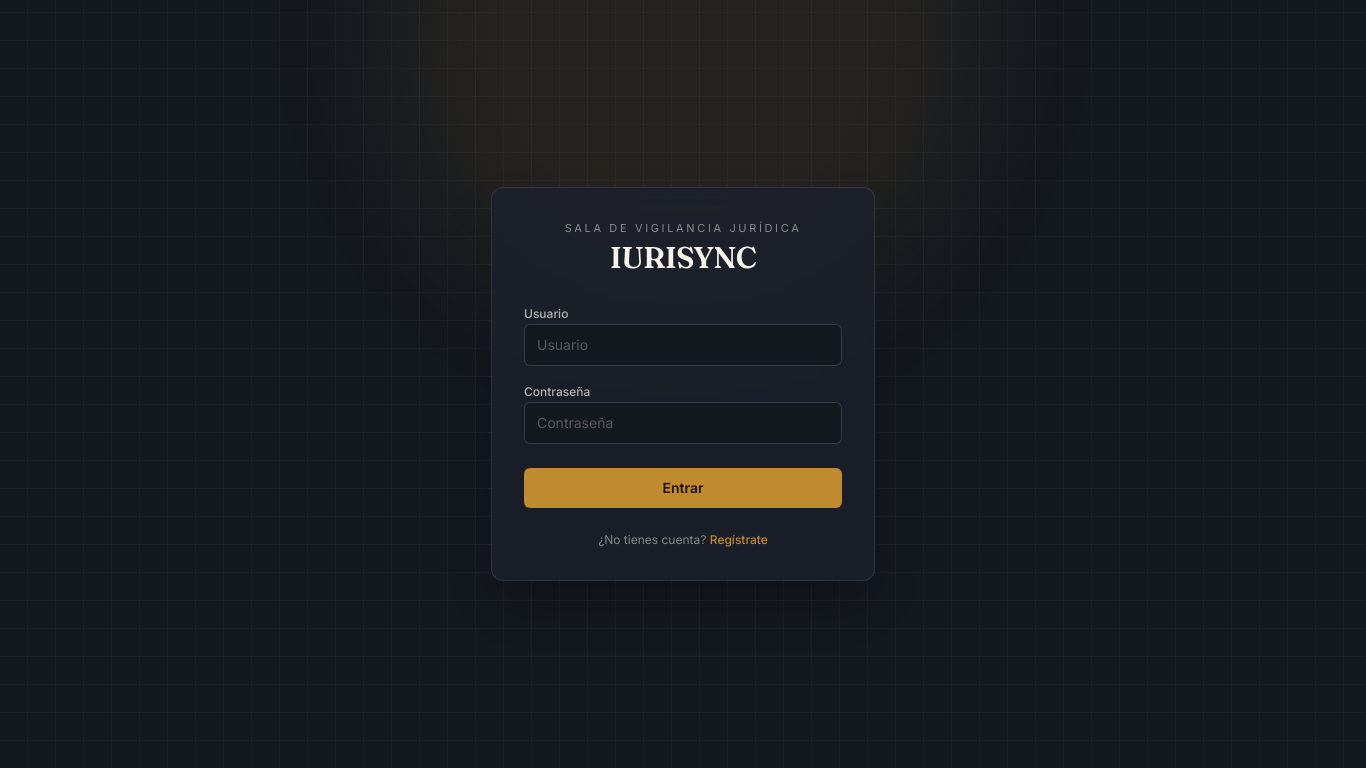
Test case: LoginPage › shows an error and does not store a session on invalid credentials
The width and height of the screenshot is (1366, 768).
Type "ana" into the field with placeholder "Usuario". click: (683, 345)
box: [524, 324, 842, 366]
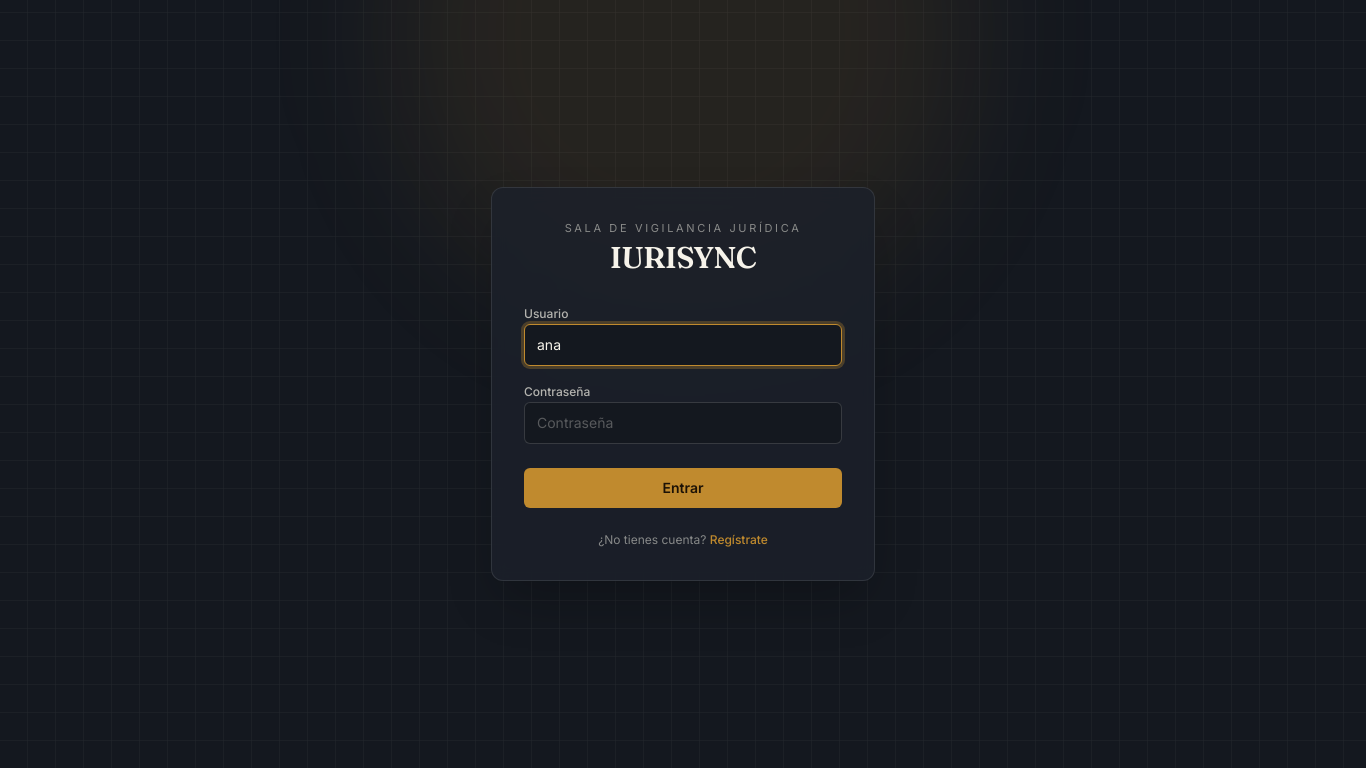
Type "wrong-password" into the password field with placeholder "Contraseña". click: (683, 423)
box: [524, 402, 842, 444]
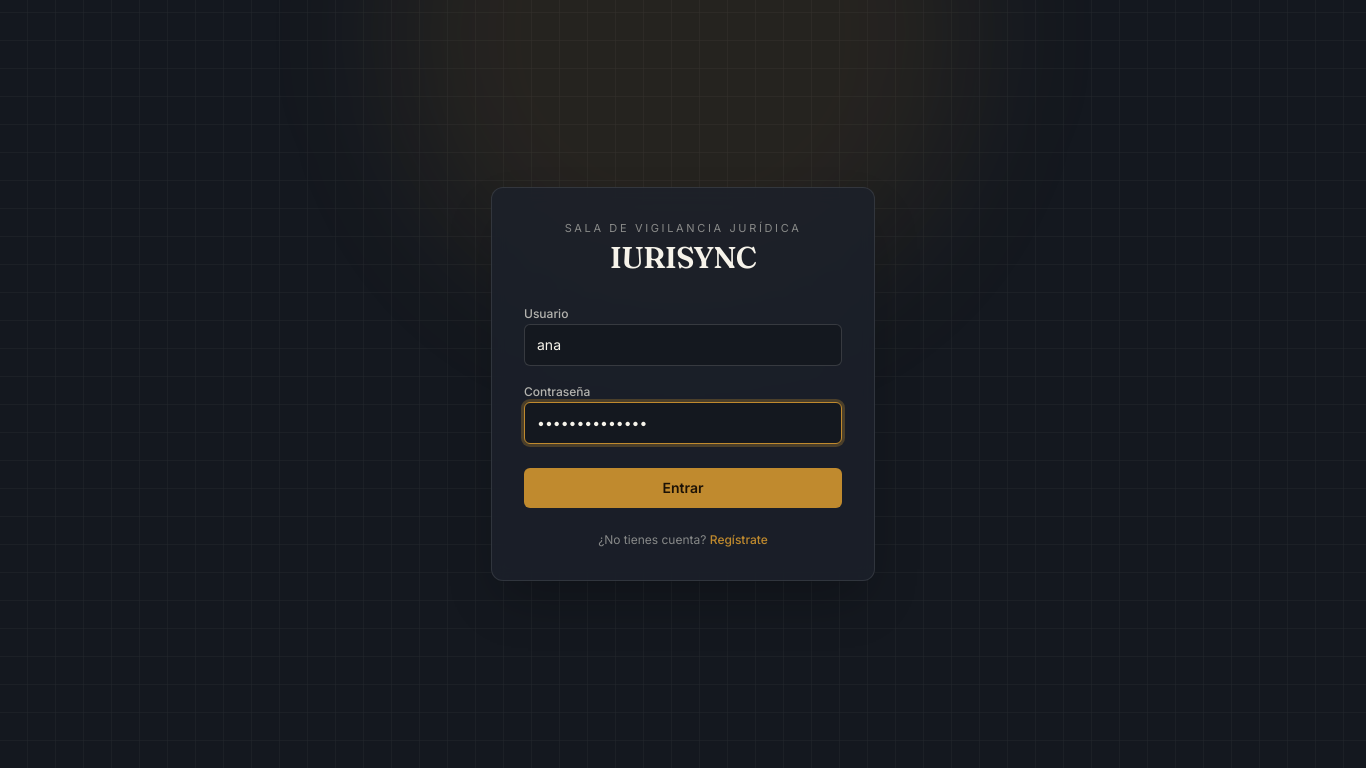
Click the button "Entrar". click: (683, 488)
box: [524, 468, 842, 508]
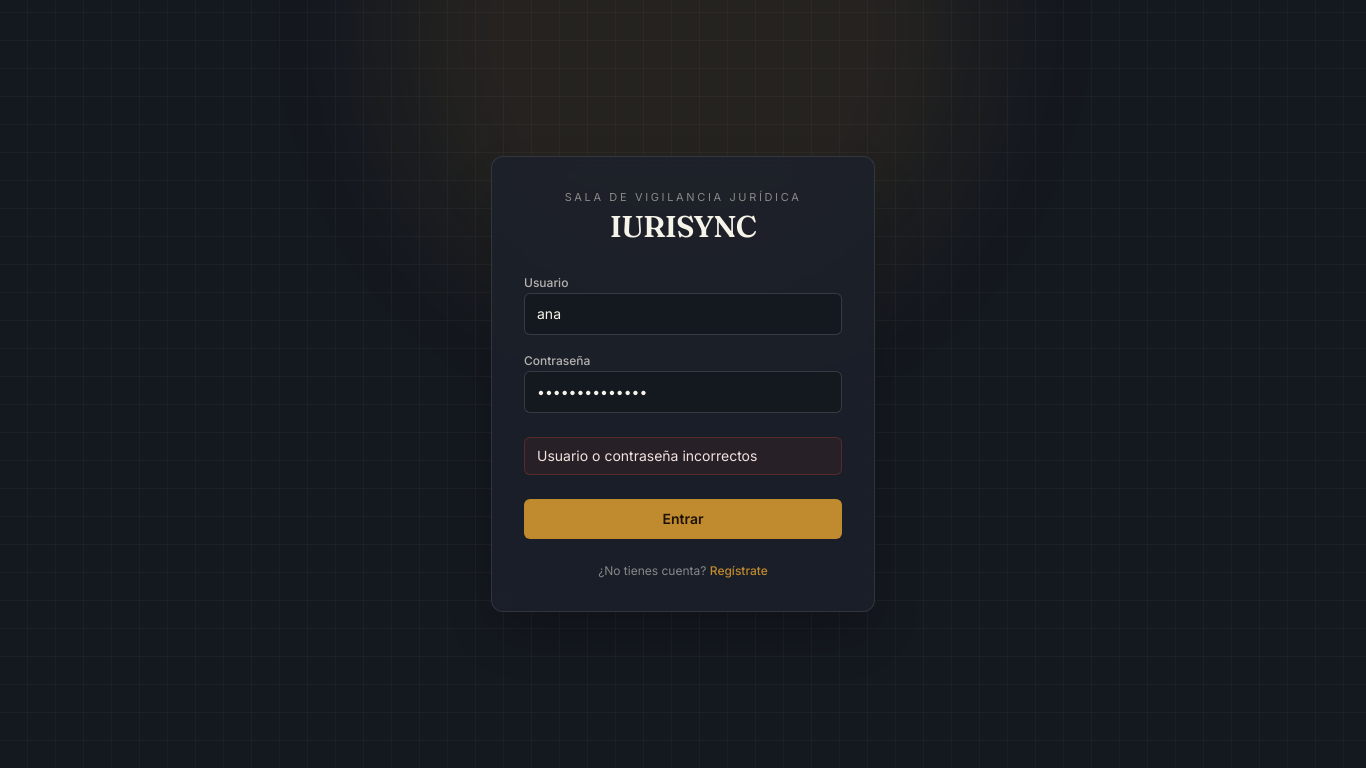
Expected: the text "Usuario o contraseña incorrectos" is shown, [524, 437, 842, 475]
